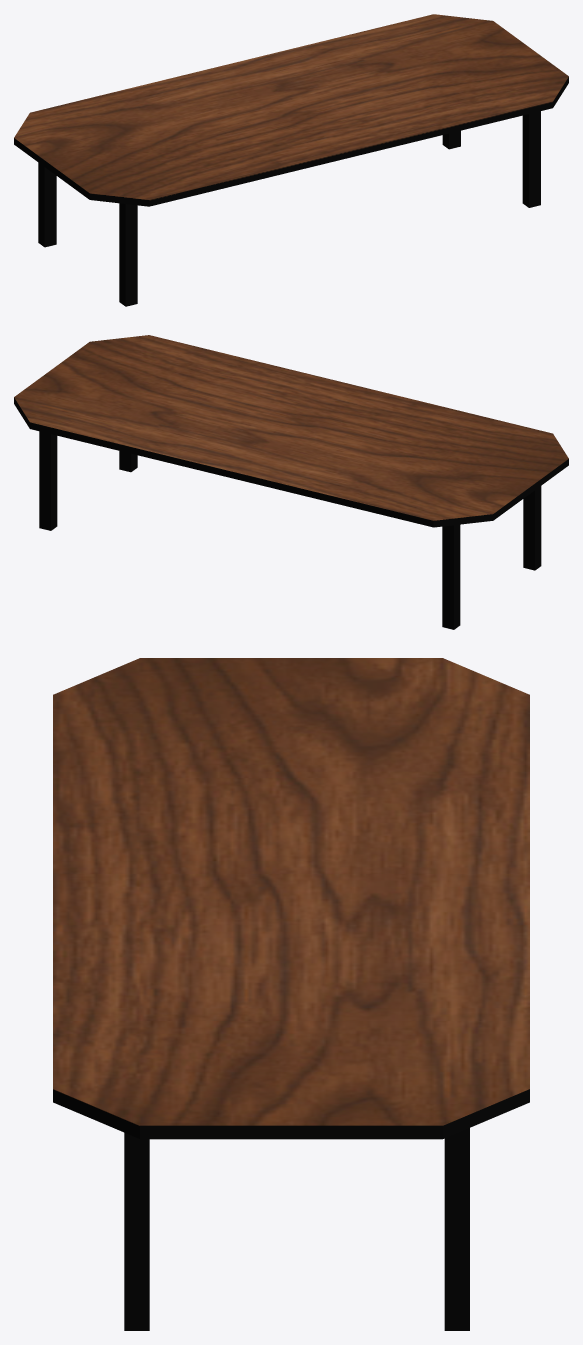
The model's file is stolnarad1.glb.
3 views of the same model, one above another, from view 1: azimuth 30°, elevation 25°; view 2: azimuth 150°, elevation 25°; view 3: azimuth 270°, elevation 25° (orthographic). The views are drawn at different scales.
Visible parts, largest first — view 1: Cube.004; view 2: Cube.004; view 3: Cube.004.
Part boxes in pixels (bbox=[...]): Cube.004: bbox=[14, 14, 568, 306]; Cube.004: bbox=[14, 335, 568, 629]; Cube.004: bbox=[53, 658, 529, 1330].
Size of the model in its own units: 9.01 by 2.12 by 3.88.
Materials: 1 (1 with a texture image).
